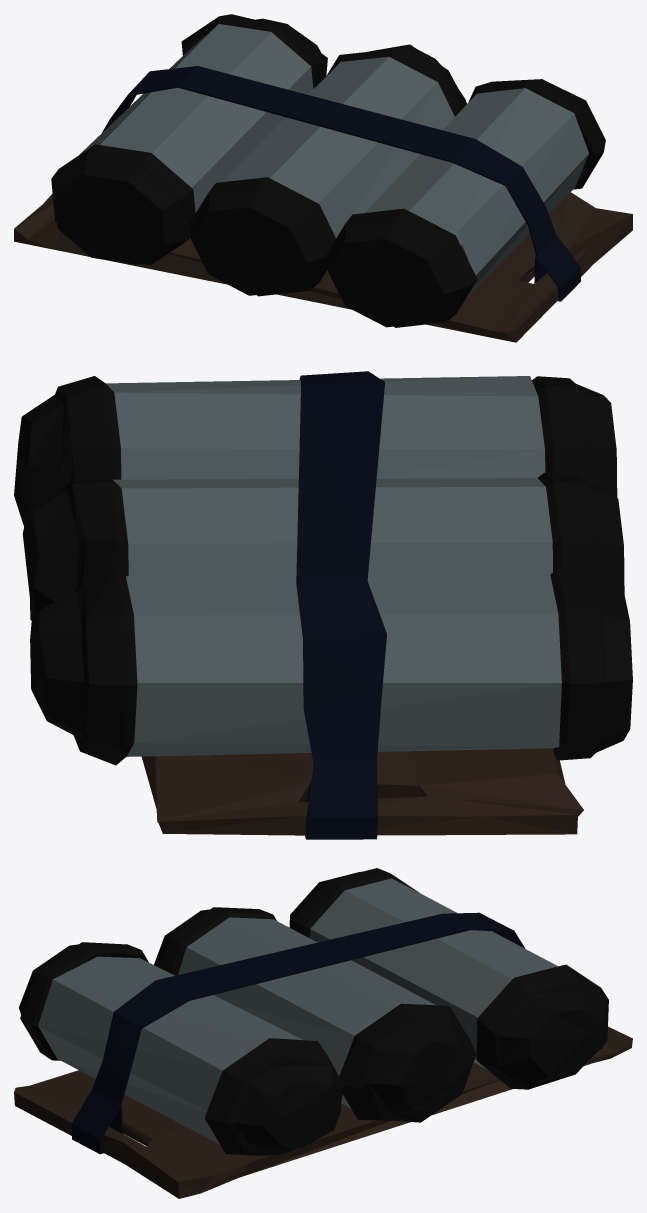
File: AirTanks_01.dae
3 renders of one model, top to bottom at view 1: azimuth 30°, elevation 25°; view 2: azimuth 150°, elevation 25°; view 3: azimuth 270°, elevation 25°, orthographic. The views are drawn at different scales.
Visible parts, largest first — view 1: polySurface18, polySurface18_ncl1_1, polySurface18_ncl1_2, pCube20, pCube17, polySurface17, polySurface17_ncl1_2, polySurface17_ncl1_1, polySurface19, polySurface19_ncl1_2, polySurface19_ncl1_1; view 2: polySurface18_ncl1_2, pCube20, polySurface18, polySurface18_ncl1_1, pCube17, polySurface19_ncl1_2, polySurface17_ncl1_2, polySurface19_ncl1_1, polySurface19, polySurface17, polySurface17_ncl1_1; view 3: polySurface18, pCube17, pCube20, polySurface18_ncl1_2, polySurface18_ncl1_1, polySurface19, polySurface19_ncl1_2, polySurface19_ncl1_1, polySurface17, polySurface17_ncl1_1, polySurface17_ncl1_2.
Part boxes in pixels (<box>): polySurface18: <box>365,88,588,297</box>; polySurface18_ncl1_1: <box>223,56,454,238</box>; polySurface18_ncl1_2: <box>79,24,313,212</box>; pCube20: <box>102,66,580,301</box>; pCube17: <box>14,192,632,342</box>; polySurface17: <box>324,208,477,327</box>; polySurface17_ncl1_2: <box>51,144,195,265</box>; polySurface17_ncl1_1: <box>187,177,335,296</box>; polySurface19: <box>468,79,605,189</box>; polySurface19_ncl1_2: <box>181,14,327,88</box>; polySurface19_ncl1_1: <box>326,44,466,116</box>; polySurface18_ncl1_2: <box>126,574,561,756</box>; pCube20: <box>296,371,386,839</box>; polySurface18: <box>106,376,545,479</box>; polySurface18_ncl1_1: <box>113,478,552,576</box>; pCube17: <box>141,748,583,835</box>; polySurface19_ncl1_2: <box>30,568,137,765</box>; polySurface17_ncl1_2: <box>550,569,632,760</box>; polySurface19_ncl1_1: <box>22,478,128,620</box>; polySurface19: <box>14,376,121,526</box>; polySurface17: <box>532,376,617,497</box>; polySurface17_ncl1_1: <box>538,472,624,594</box>; polySurface18: <box>38,956,302,1144</box>; pCube17: <box>14,1026,632,1198</box>; pCube20: <box>71,912,525,1154</box>; polySurface18_ncl1_2: <box>309,878,557,1069</box>; polySurface18_ncl1_1: <box>178,917,435,1108</box>; polySurface19: <box>205,1038,344,1155</box>; polySurface19_ncl1_2: <box>476,964,608,1089</box>; polySurface19_ncl1_1: <box>339,1003,476,1122</box>; polySurface17: <box>19,942,148,1060</box>; polySurface17_ncl1_1: <box>154,907,276,975</box>; polySurface17_ncl1_2: <box>289,868,419,937</box>.
Size of the model in its own units: 1.8 by 0.4857 by 2.01.
